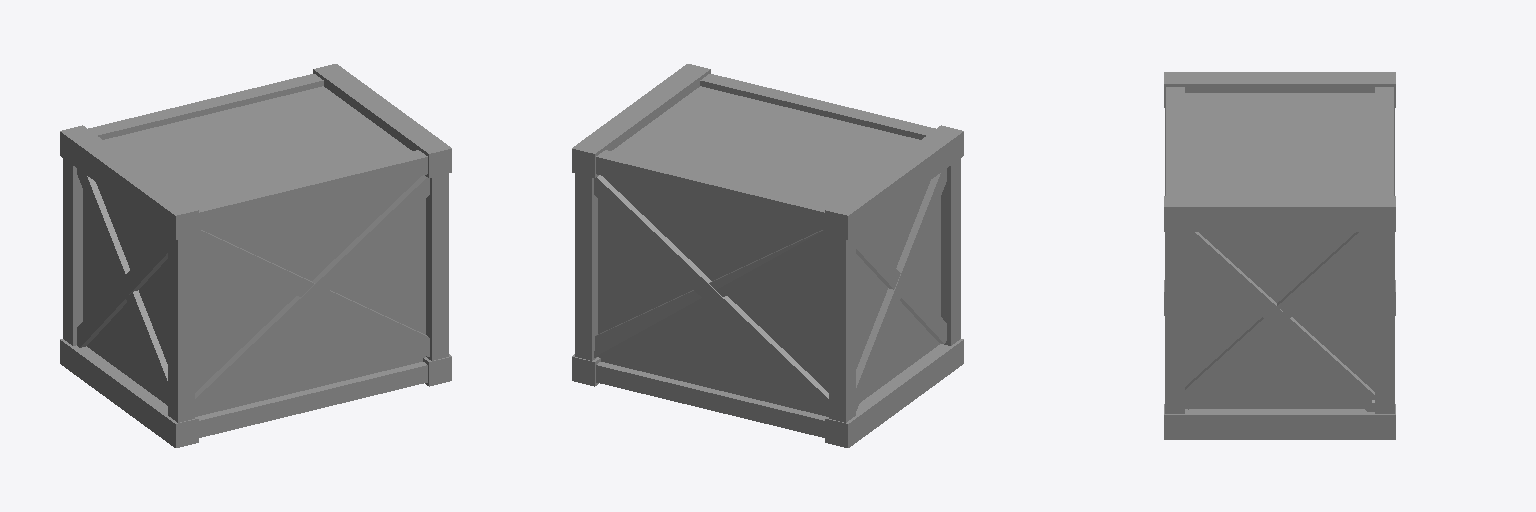
The model's file is Crate2.obj.
3 renders of one model, left to right at view 1: azimuth 30°, elevation 25°; view 2: azimuth 150°, elevation 25°; view 3: azimuth 270°, elevation 25°, orthographic.
Visible parts, largest first — view 1: Crate_2_Cube.000; view 2: Crate_2_Cube.000; view 3: Crate_2_Cube.000.
Part boxes in pixels (x1,y1,x2,y2): Crate_2_Cube.000: (60,64,451,447); Crate_2_Cube.000: (572,64,963,447); Crate_2_Cube.000: (1164,72,1395,439).
Size of the model in its own units: 11.18 by 8.98 by 8.11.